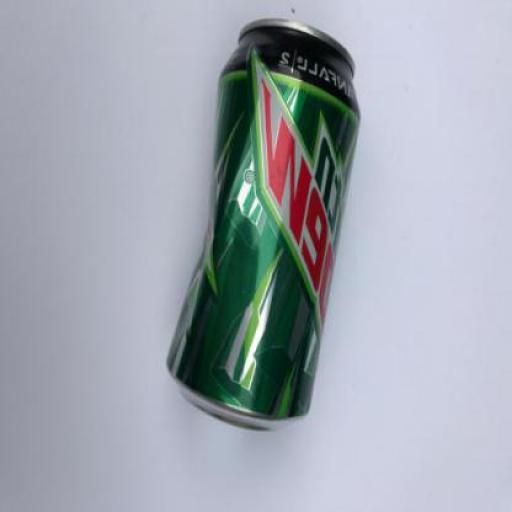metal: (168, 16, 362, 428)
